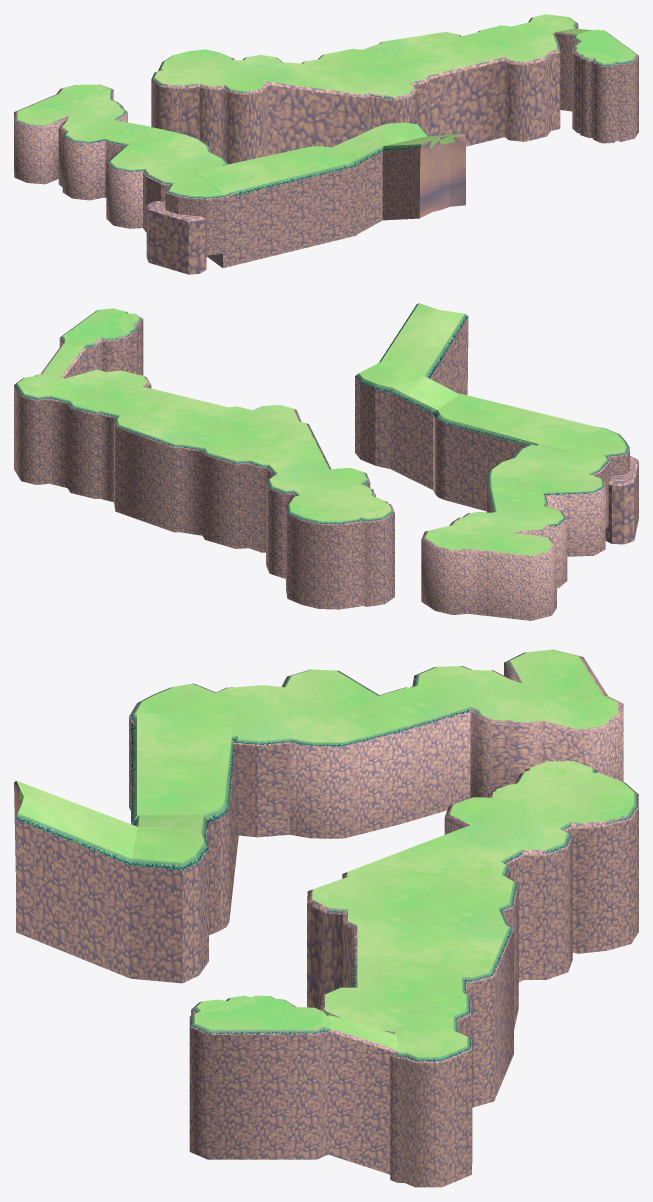
File: Temple_Terrain 1.fbx
The picture shows the model from 3 angles, top to bottom: view 1: azimuth 30°, elevation 25°; view 2: azimuth 150°, elevation 25°; view 3: azimuth 270°, elevation 25°; orthographic projection. The views are drawn at different scales.
Parts seen in each view (by area): view 1: Terrain1_side, Terrain5_side, Terrain2_Upper, Terrain4_Side, Terrain3_Side, Terrain3_upper, Terrain5_Upper, Terrain7_Upper, Terrain2_Side, Terrain1_Upper, Terrain4_Upper, Terrain6_Upper (+5 smaller); view 2: Terrain1_side, Terrain5_side, Terrain2_Side, Terrain2_Upper, Terrain3_upper, Terrain7_Upper, Terrain5_Upper, Terrain1_Upper, Terrain4_Upper, Terrain3_Side, Terrain9_Upper, Terrain4_Side (+6 smaller); view 3: Terrain1_side, Terrain5_side, Terrain2_Upper, Terrain3_Side, Terrain3_upper, Terrain5_Upper, Terrain7_Upper, Terrain2_Side, Terrain1_Upper, Terrain4_Upper, Terrain4_Side, Terrain6_Upper (+7 smaller).
Part boxes in pixels (left/top/right/bottom): Terrain1_side: left=151, top=18, right=638, bottom=164; Terrain5_side: left=206, top=131, right=465, bottom=267; Terrain2_Upper: left=303, top=32, right=487, bottom=96; Terrain4_Side: left=143, top=153, right=237, bottom=274; Terrain3_Side: left=62, top=133, right=211, bottom=228; Terrain3_upper: left=154, top=49, right=350, bottom=92; Terrain5_Upper: left=66, top=120, right=207, bottom=169; Terrain7_Upper: left=194, top=146, right=351, bottom=194; Terrain2_Side: left=14, top=85, right=127, bottom=186; Terrain1_Upper: left=460, top=14, right=574, bottom=61; Terrain4_Upper: left=17, top=84, right=123, bottom=131; Terrain6_Upper: left=145, top=152, right=227, bottom=196; Terrain1_side: left=14, top=311, right=394, bottom=609; Terrain5_side: left=355, top=306, right=526, bottom=511; Terrain2_Side: left=421, top=513, right=556, bottom=620; Terrain2_Upper: left=117, top=391, right=308, bottom=464; Terrain3_upper: left=269, top=429, right=391, bottom=521; Terrain7_Upper: left=438, top=393, right=601, bottom=452; Terrain5_Upper: left=491, top=458, right=601, bottom=524; Terrain1_Upper: left=17, top=369, right=160, bottom=415; Terrain4_Upper: left=425, top=512, right=552, bottom=555; Terrain3_Side: left=487, top=462, right=605, bottom=588; Terrain9_Upper: left=381, top=303, right=464, bottom=377; Terrain4_Side: left=512, top=432, right=638, bottom=544; Terrain1_side: left=189, top=768, right=638, bottom=1187; Terrain5_side: left=14, top=747, right=238, bottom=983; Terrain2_Upper: left=312, top=861, right=513, bottom=977; Terrain3_Side: left=281, top=666, right=471, bottom=838; Terrain3_upper: left=363, top=761, right=633, bottom=866; Terrain5_Upper: left=285, top=666, right=470, bottom=742; Terrain7_Upper: left=137, top=713, right=234, bottom=815; Terrain2_Side: left=470, top=649, right=623, bottom=798; Terrain1_Upper: left=325, top=973, right=467, bottom=1057; Terrain4_Upper: left=470, top=649, right=617, bottom=729; Terrain4_Side: left=129, top=683, right=290, bottom=837; Terrain6_Upper: left=135, top=684, right=290, bottom=741.
Bounding box in the file's own units: 33966 × 7076 × 21614.
3 materials, 3 textured.
